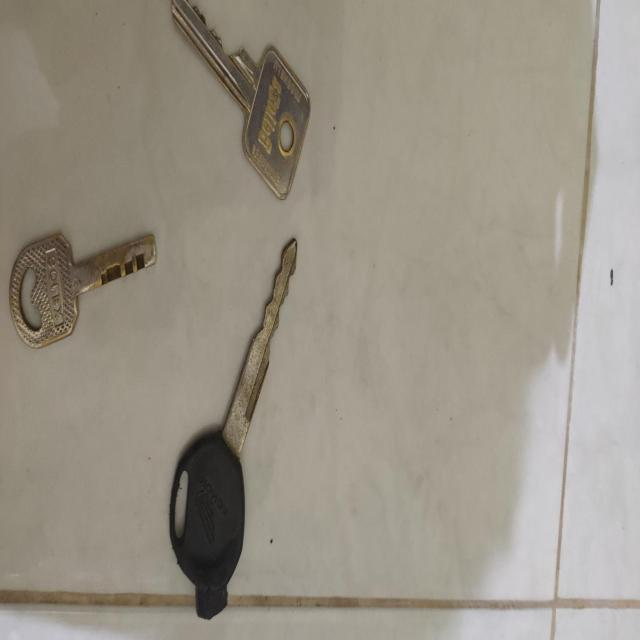kunci_kos: (172, 1, 314, 210)
kunci_motor: (162, 225, 310, 628)
kunci_pagar: (8, 222, 158, 352)
